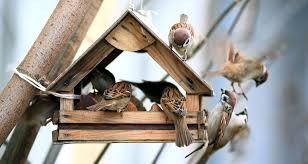hsparrow: (197, 84, 239, 164), (152, 81, 193, 145), (94, 79, 137, 120), (165, 11, 196, 61)
